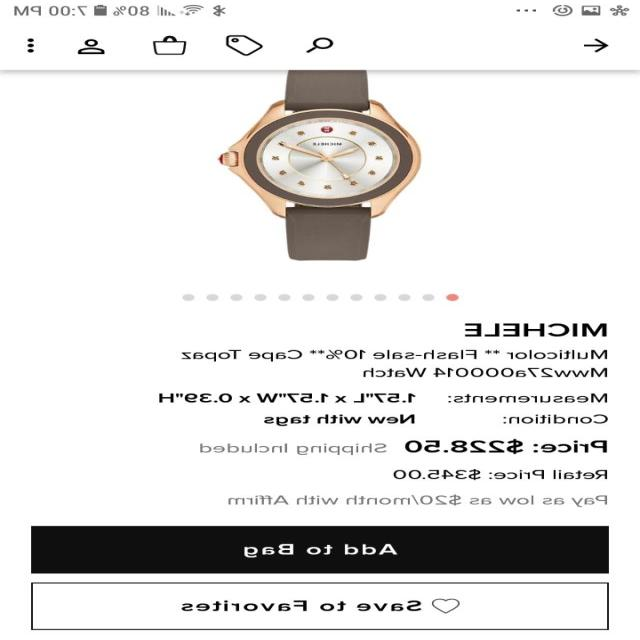Icon: (227, 35, 264, 56), (154, 36, 188, 55), (78, 38, 106, 55), (306, 37, 334, 53), (584, 39, 609, 52), (28, 38, 36, 53)
Image: (218, 70, 421, 261)
Text: (182, 349, 608, 377), (228, 495, 608, 507), (404, 439, 608, 454), (159, 392, 417, 403), (394, 469, 608, 480), (200, 443, 388, 455), (465, 323, 607, 337), (264, 414, 416, 426), (448, 393, 608, 402), (502, 414, 609, 424)
TextButton: (31, 582, 609, 630), (32, 525, 610, 573)
